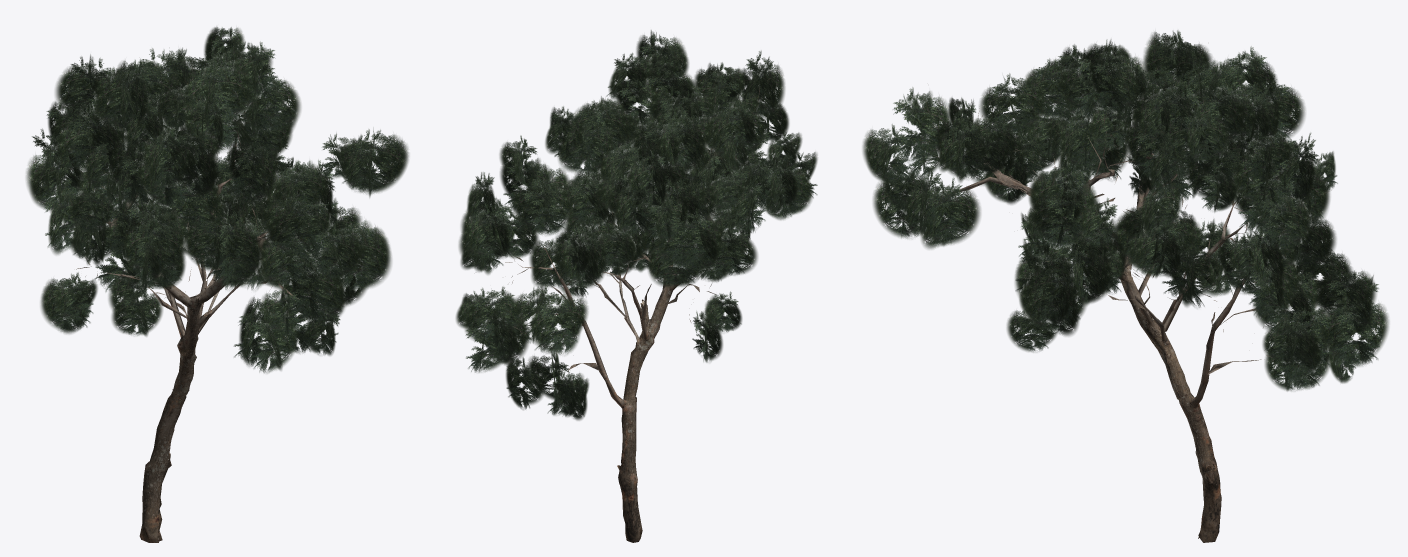
Rendered from tree-v2-high.glb.
3 renders of one model, left to right at view 1: azimuth 30°, elevation 25°; view 2: azimuth 150°, elevation 25°; view 3: azimuth 270°, elevation 25°, orthographic. The views are drawn at different scales.
Parts seen in each view (by area): view 1: tree-v2-high; view 2: tree-v2-high; view 3: tree-v2-high.
Part boxes in pixels (x1,y1,x2,y2): tree-v2-high: (26,26,408,542); tree-v2-high: (456,30,817,542); tree-v2-high: (862,30,1388,542).
Bounding box in the file's own units: 8.95 × 14.62 × 13.87.
3 materials, 3 textured.
